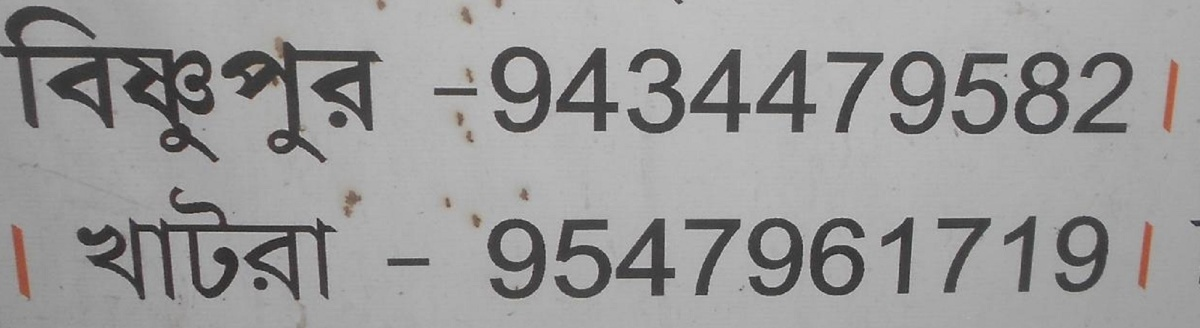text: (1, 1, 16, 170), (17, 1, 32, 170), (33, 1, 48, 170), (49, 1, 64, 170), (65, 1, 80, 170), (81, 1, 96, 170), (97, 1, 112, 170), (113, 1, 128, 170), (129, 1, 144, 170), (145, 1, 160, 170), (161, 1, 176, 170), (177, 1, 192, 170), (193, 1, 208, 170), (209, 1, 224, 170), (225, 1, 240, 170), (241, 1, 256, 170), (257, 1, 272, 170), (273, 1, 288, 170), (289, 1, 304, 170), (305, 1, 320, 170), (321, 1, 336, 170), (337, 1, 352, 170), (353, 1, 368, 170), (369, 1, 384, 170), (81, 186, 96, 306), (97, 186, 112, 306), (113, 186, 128, 306), (129, 186, 144, 306), (145, 186, 160, 306), (161, 186, 176, 306), (177, 186, 192, 306), (193, 186, 208, 306), (209, 186, 224, 306), (225, 186, 240, 306), (241, 186, 256, 306), (257, 186, 272, 306), (273, 186, 288, 306), (289, 186, 304, 306), (305, 186, 320, 306), (321, 186, 336, 306), (385, 1, 394, 170), (433, 40, 448, 139), (449, 40, 464, 139), (465, 40, 480, 139), (481, 40, 496, 139), (497, 40, 512, 139), (513, 40, 528, 139), (529, 40, 544, 139), (545, 40, 560, 139), (561, 40, 576, 139), (577, 40, 592, 139), (593, 40, 608, 139), (609, 40, 624, 139), (625, 40, 640, 139), (641, 40, 656, 139), (657, 40, 672, 139), (673, 40, 688, 139), (689, 40, 704, 139), (705, 40, 720, 139), (721, 40, 736, 139), (737, 40, 752, 139), (753, 40, 768, 139), (769, 40, 784, 139), (785, 40, 800, 139), (801, 40, 816, 139), (817, 40, 832, 139), (833, 40, 848, 139), (849, 40, 864, 139), (865, 40, 880, 139), (881, 40, 896, 139), (897, 40, 912, 139), (913, 40, 928, 139), (929, 40, 944, 139), (945, 40, 960, 139), (961, 40, 976, 139), (977, 40, 992, 139), (993, 40, 1008, 139), (1009, 40, 1024, 139), (1025, 40, 1040, 139), (1041, 40, 1056, 139), (1057, 40, 1072, 139), (1073, 40, 1088, 139), (1089, 40, 1104, 139), (1105, 40, 1120, 139), (1121, 40, 1136, 139), (481, 216, 496, 299), (497, 216, 512, 299), (513, 216, 528, 299), (529, 216, 544, 299), (545, 216, 560, 299), (561, 216, 576, 299), (577, 216, 592, 299), (593, 216, 608, 299), (609, 216, 624, 299), (625, 216, 640, 299), (641, 216, 656, 299), (657, 216, 672, 299), (673, 216, 688, 299), (689, 216, 704, 299), (705, 216, 720, 299), (721, 216, 736, 299), (737, 216, 752, 299), (753, 216, 768, 299), (769, 216, 784, 299), (785, 216, 800, 299), (801, 216, 816, 299), (817, 216, 832, 299), (833, 216, 848, 299), (849, 216, 864, 299), (865, 216, 880, 299), (881, 216, 896, 299), (897, 216, 912, 299), (913, 216, 928, 299), (929, 216, 944, 299), (945, 216, 960, 299), (961, 216, 976, 299), (977, 216, 992, 299), (993, 216, 1008, 299), (1009, 216, 1024, 299), (1025, 216, 1040, 299), (1041, 216, 1056, 299), (1057, 216, 1072, 299), (1073, 216, 1088, 299), (1089, 216, 1104, 299), (337, 186, 347, 306), (1105, 216, 1118, 299), (17, 226, 30, 292), (1140, 221, 1152, 292), (73, 186, 80, 306), (425, 40, 432, 139), (1169, 62, 1178, 130), (1137, 40, 1140, 139), (1164, 62, 1168, 130), (401, 255, 416, 269), (389, 255, 400, 269), (417, 255, 426, 269), (15, 226, 16, 292)
